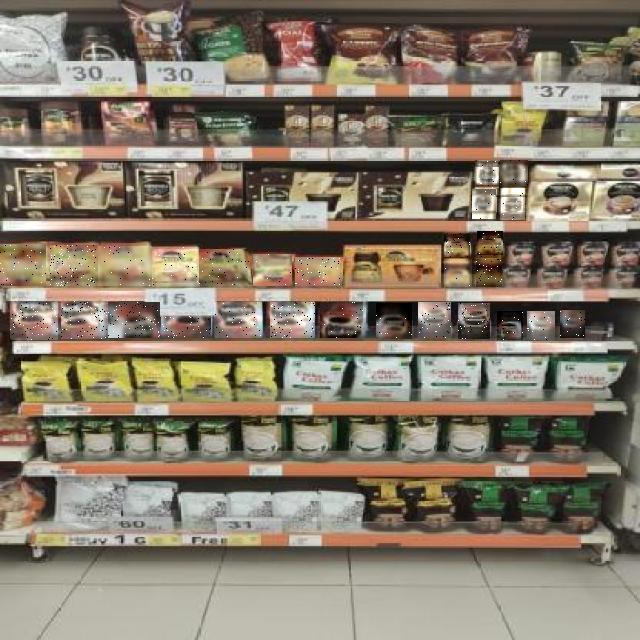Coffee: (99, 246, 153, 286), (51, 245, 99, 286), (0, 245, 46, 287), (152, 247, 200, 287), (108, 302, 160, 338), (11, 302, 59, 340), (200, 250, 250, 286), (62, 301, 108, 339), (215, 302, 263, 338), (270, 302, 315, 338), (320, 302, 363, 338), (296, 258, 342, 288), (377, 303, 413, 339), (253, 254, 292, 286), (418, 302, 451, 338), (458, 303, 490, 339), (161, 316, 211, 338), (527, 311, 555, 340), (500, 188, 525, 220), (445, 259, 473, 287), (497, 311, 523, 340), (501, 160, 529, 186), (476, 259, 502, 287), (473, 189, 497, 219), (560, 311, 585, 339), (477, 232, 503, 258), (475, 160, 499, 188), (444, 233, 470, 258)
